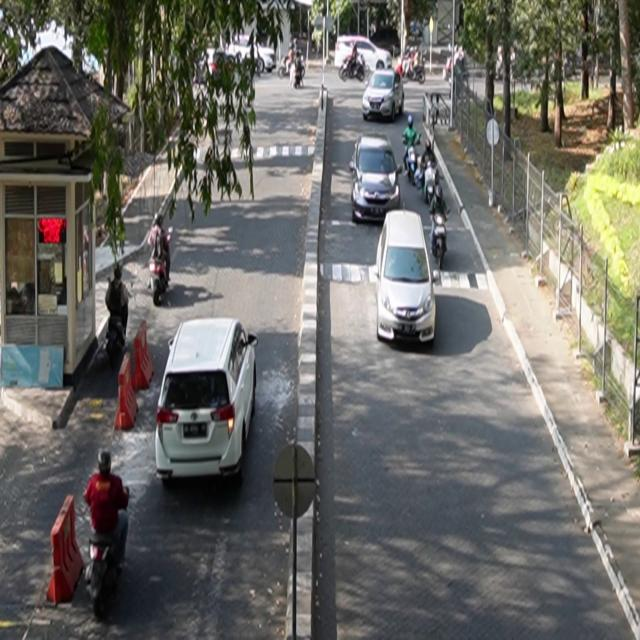car: (156, 317, 259, 484), (375, 209, 438, 346), (350, 134, 403, 224), (363, 69, 405, 123)
